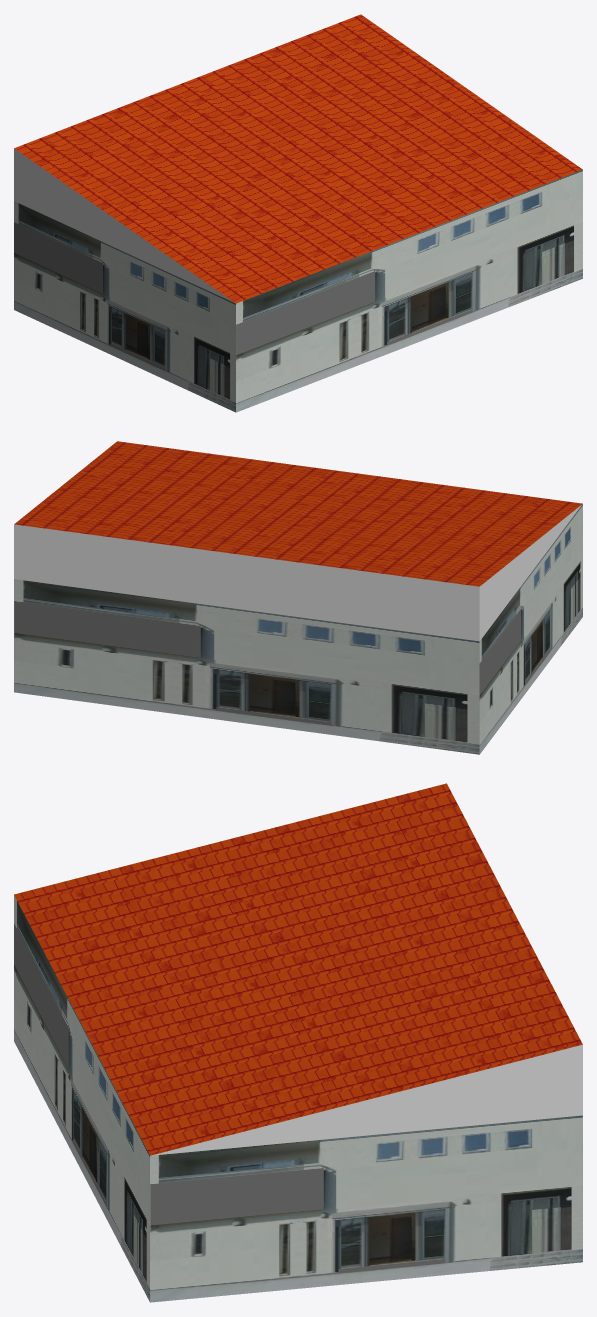
3 views of the same model, one above another, from view 1: azimuth 30°, elevation 25°; view 2: azimuth 150°, elevation 25°; view 3: azimuth 270°, elevation 25° (orthographic). The views are drawn at different scales.
Visible parts, largest first — view 1: CityEngineMaterial_12_m, CityEngineMaterial_11_m, CityEngineMaterial_3_m; view 2: CityEngineMaterial_11_m, CityEngineMaterial_12_m, CityEngineMaterial_3_m; view 3: CityEngineMaterial_12_m, CityEngineMaterial_11_m, CityEngineMaterial_3_m.
Boxes of the visible parts, x1,y1,x2,y2 form: CityEngineMaterial_12_m: (14,14,582,303); CityEngineMaterial_11_m: (14,169,582,412); CityEngineMaterial_3_m: (14,148,235,303); CityEngineMaterial_11_m: (14,504,582,754); CityEngineMaterial_12_m: (14,441,582,586); CityEngineMaterial_3_m: (14,504,582,641); CityEngineMaterial_12_m: (14,783,582,1155); CityEngineMaterial_11_m: (14,895,582,1302); CityEngineMaterial_3_m: (151,1044,582,1155).
Bounding box in the file's own units: 24.8 × 8.35 × 19.78.
